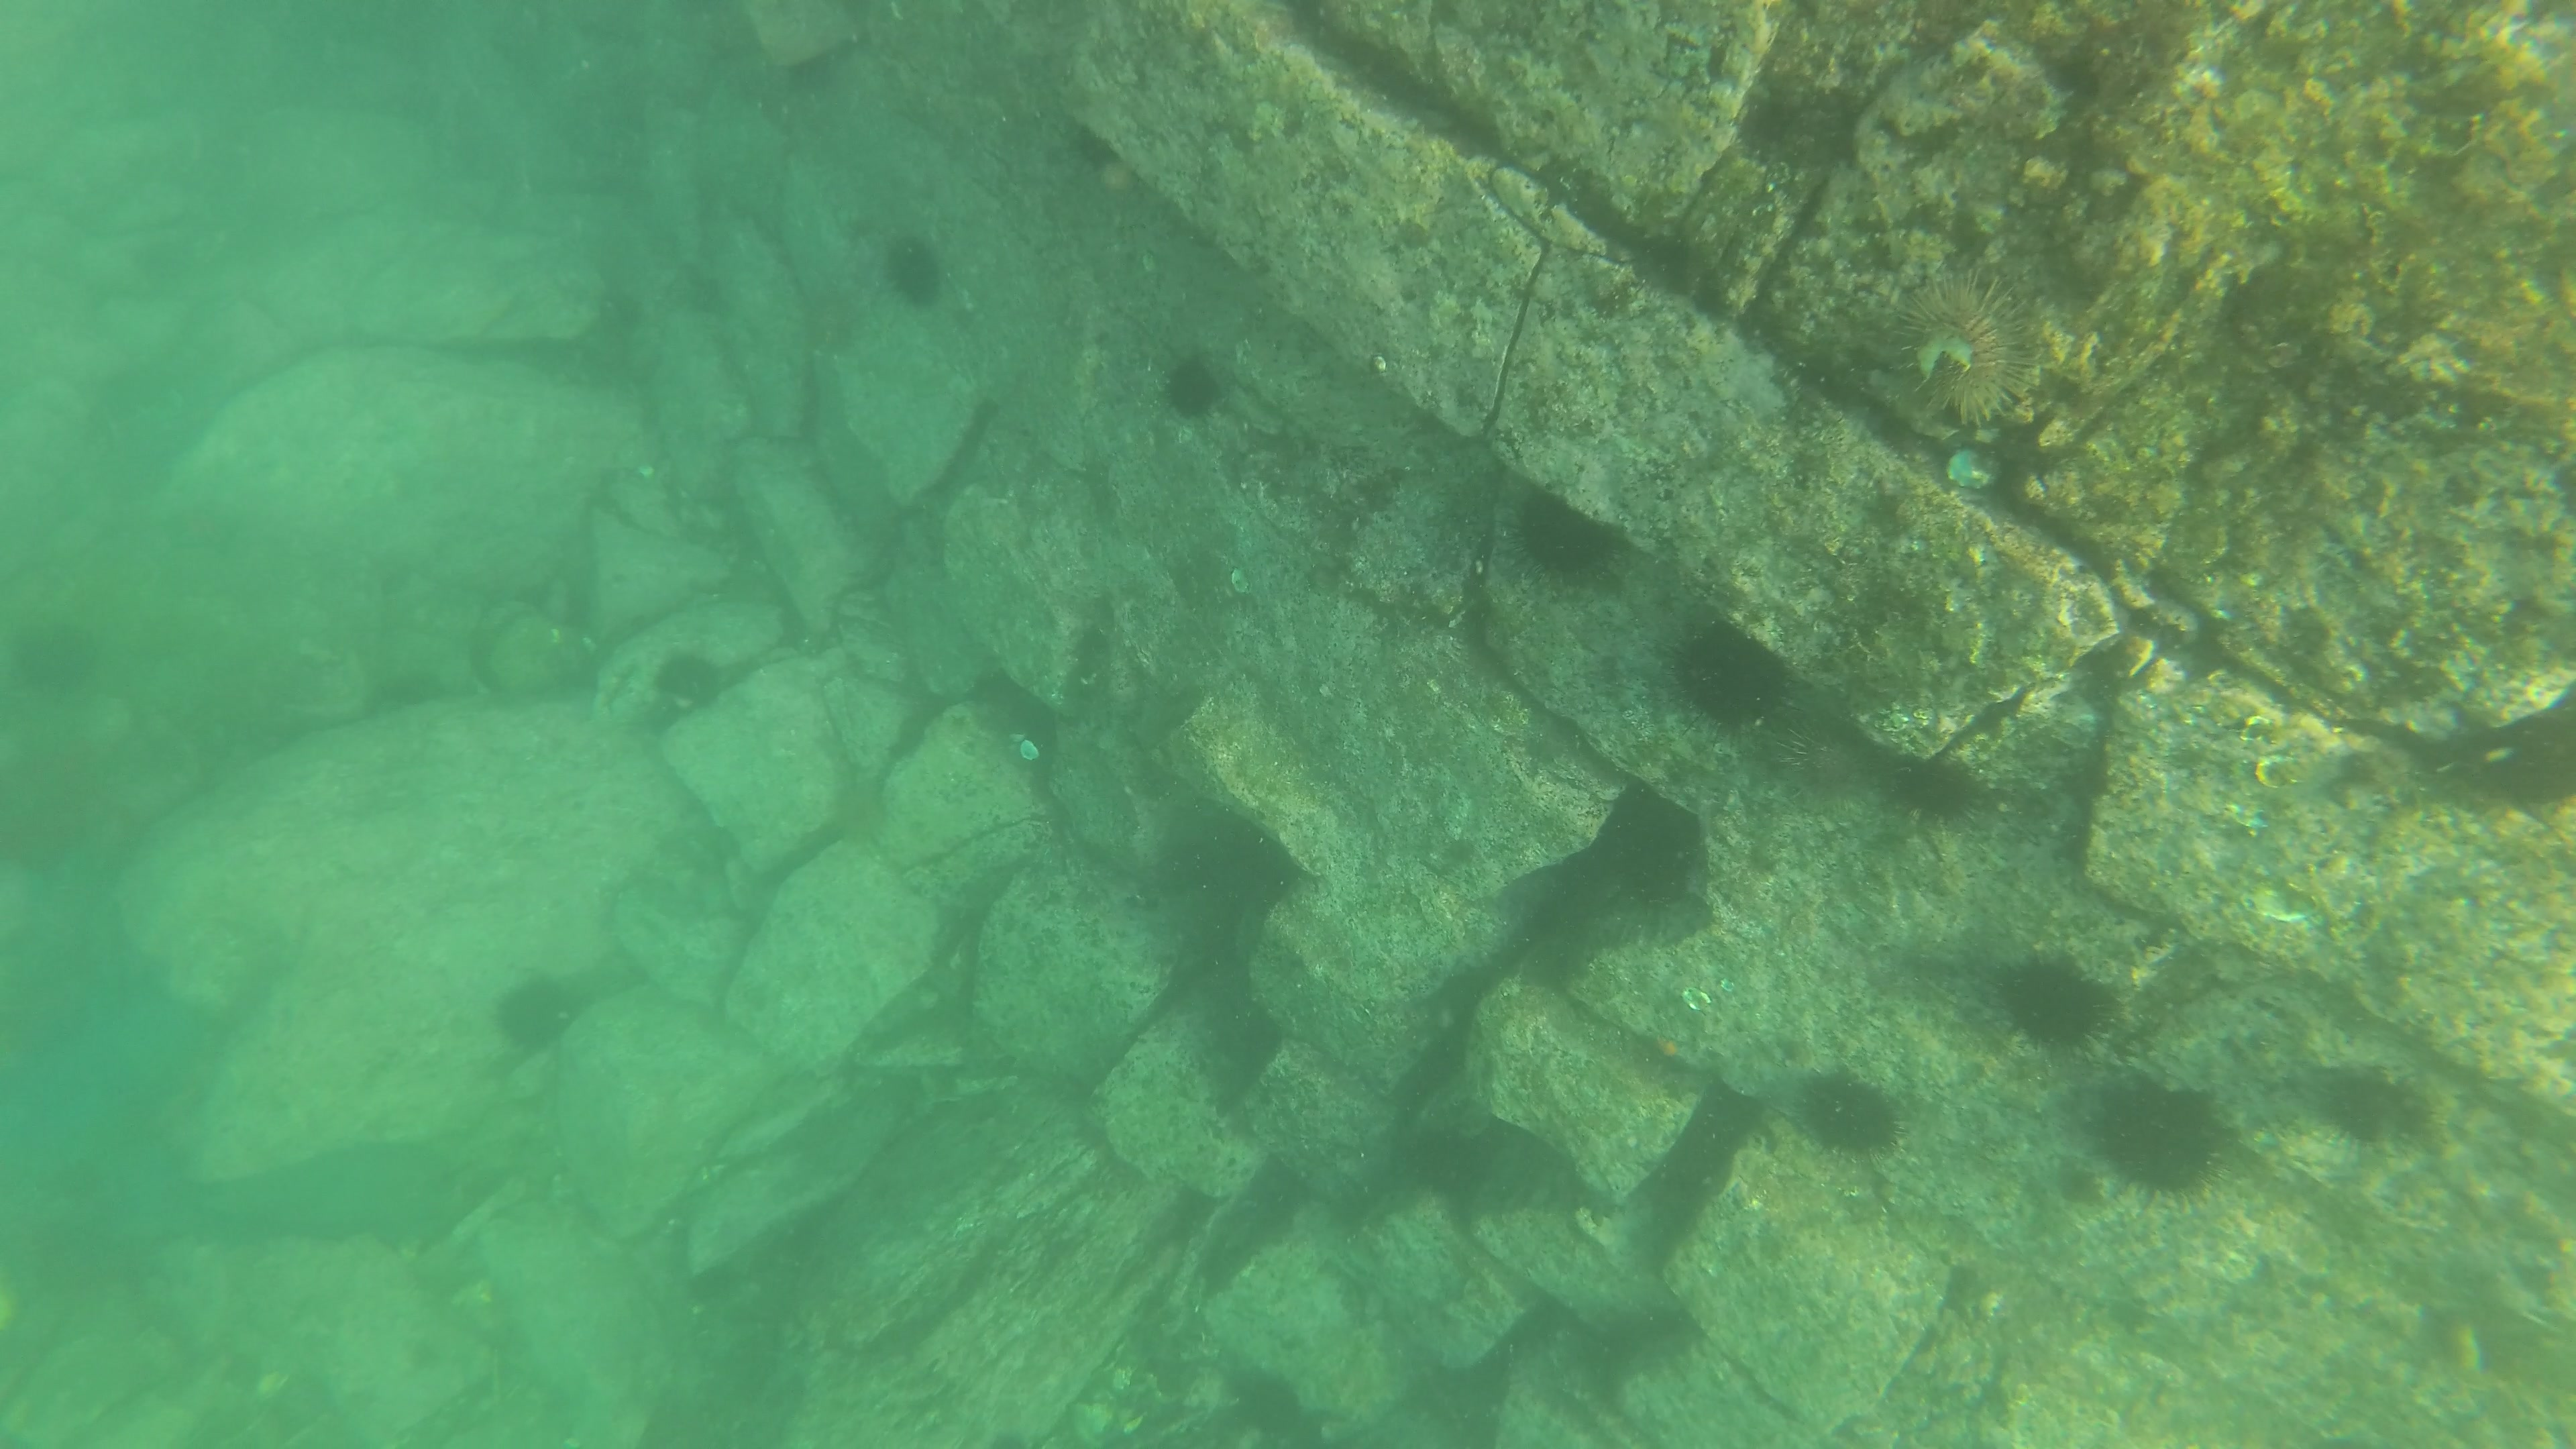echinus: (1856, 251, 2054, 441), (2084, 1081, 2240, 1214), (1677, 600, 1803, 738), (1989, 938, 2134, 1056), (1511, 467, 1642, 591), (1792, 1062, 1911, 1157), (488, 980, 598, 1058), (2311, 1070, 2401, 1154), (874, 230, 957, 320), (1155, 341, 1231, 433), (649, 646, 740, 711)
